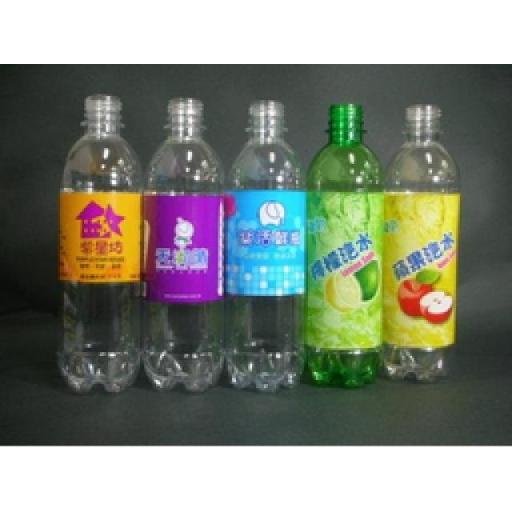plastic: (54, 92, 460, 394), (56, 92, 142, 392), (140, 96, 226, 392), (222, 98, 306, 392), (304, 100, 384, 386), (382, 102, 460, 382)
